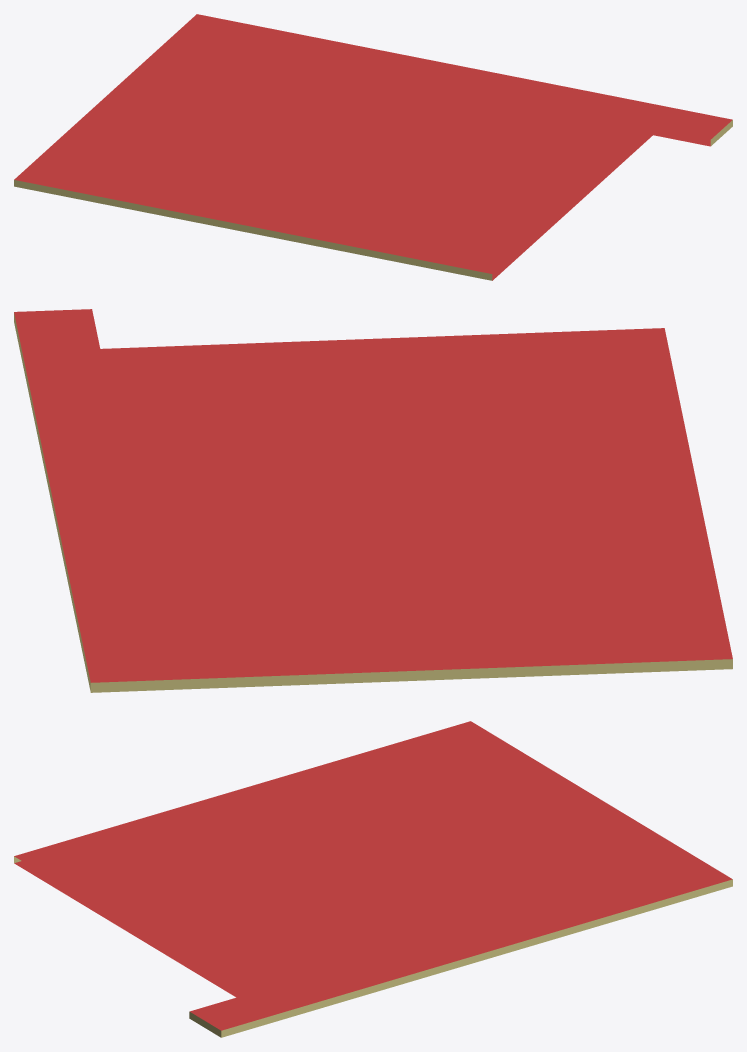
The picture shows the model from 3 angles, top to bottom: view 1: azimuth 30°, elevation 25°; view 2: azimuth 150°, elevation 25°; view 3: azimuth 270°, elevation 25°; orthographic projection. The views are drawn at different scales.
Bounding box in the file's own units: 9.33 × 9.15 × 0.1.
